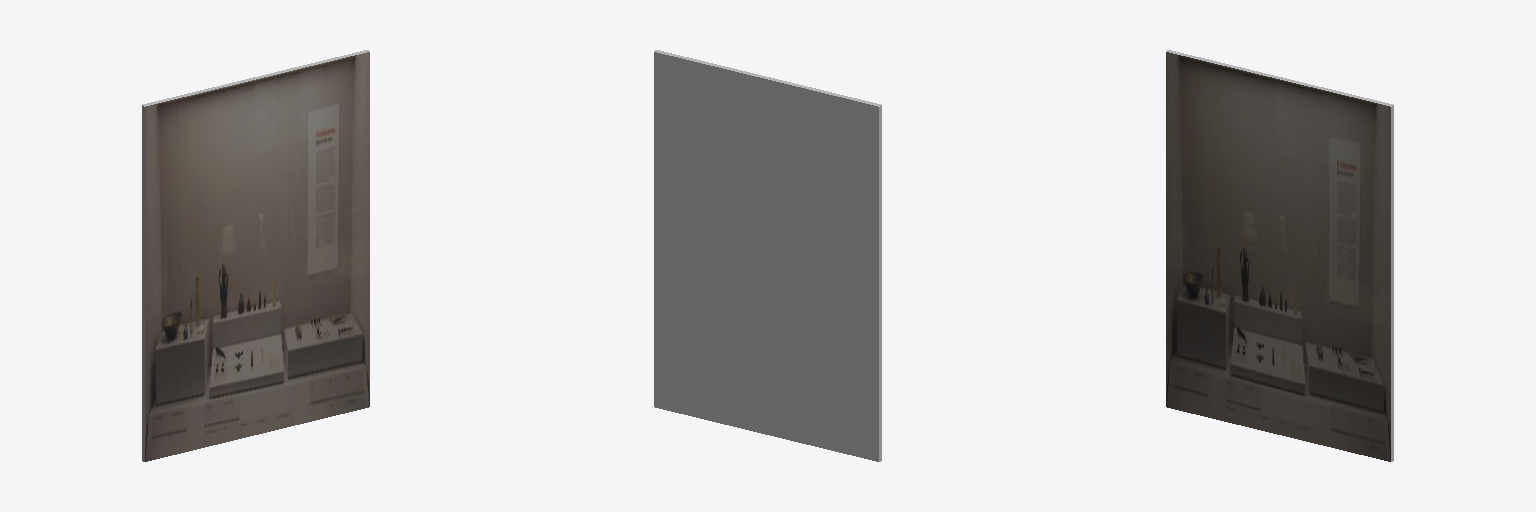
3 views of the same model, side by side, from view 1: azimuth 30°, elevation 25°; view 2: azimuth 150°, elevation 25°; view 3: azimuth 330°, elevation 25° (orthographic).
Visible parts, largest first — view 1: SketchUp.001_ID10, SketchUp_ID2; view 2: SketchUp_ID2; view 3: SketchUp.001_ID10, SketchUp_ID2.
Boxes of the visible parts, x1,y1,x2,y2 form: SketchUp.001_ID10: [145, 52, 369, 461]; SketchUp_ID2: [142, 50, 369, 461]; SketchUp_ID2: [654, 50, 881, 461]; SketchUp.001_ID10: [1166, 52, 1390, 461]; SketchUp_ID2: [1166, 50, 1393, 461].
Size of the model in its own units: 188 by 283 by 3.94.
Materials: 2 (1 with a texture image).